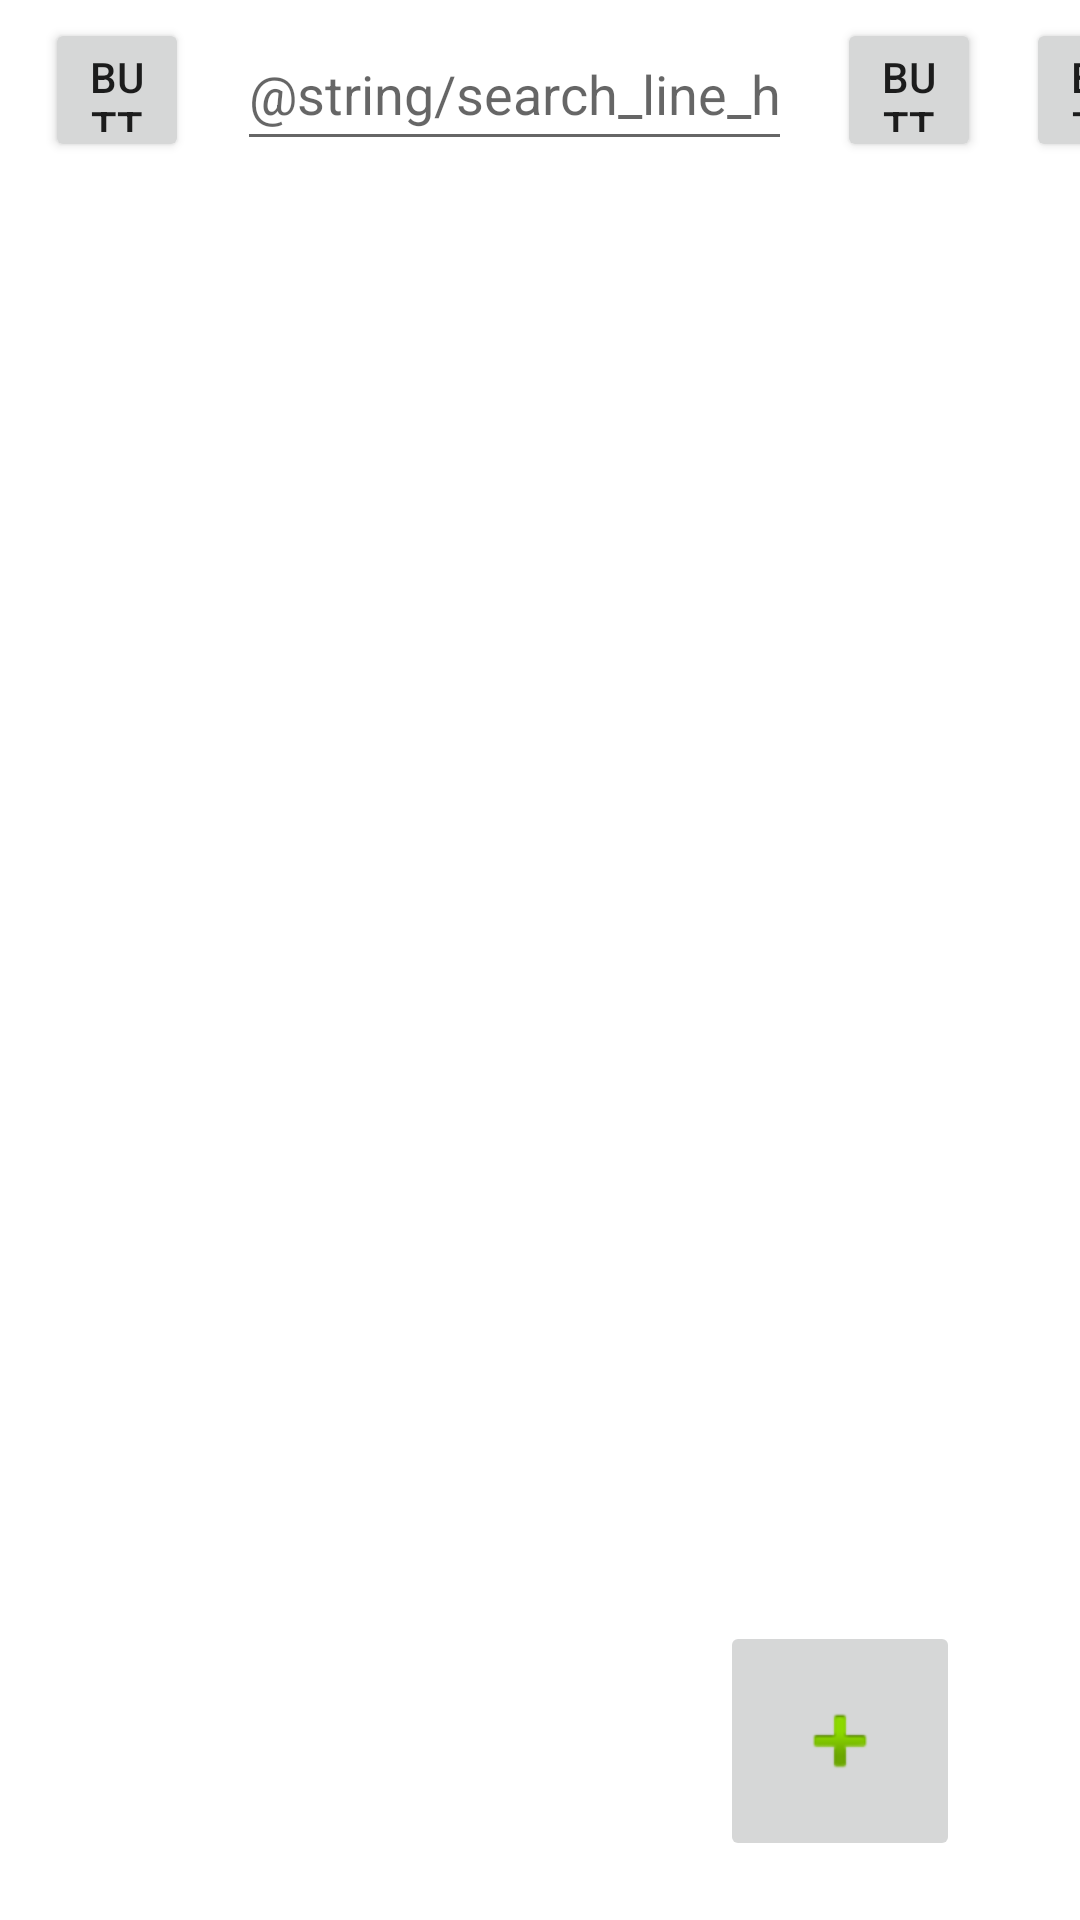

Icon bounding boxes for this 1080×1920 phone screenshot, format (x1, y1, x2, y2):
create new Note: (732, 1639, 948, 1843)
